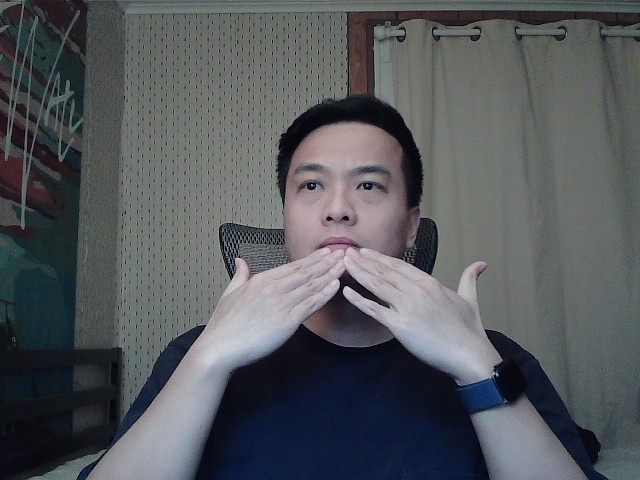Thank You: (203, 234, 506, 376)
